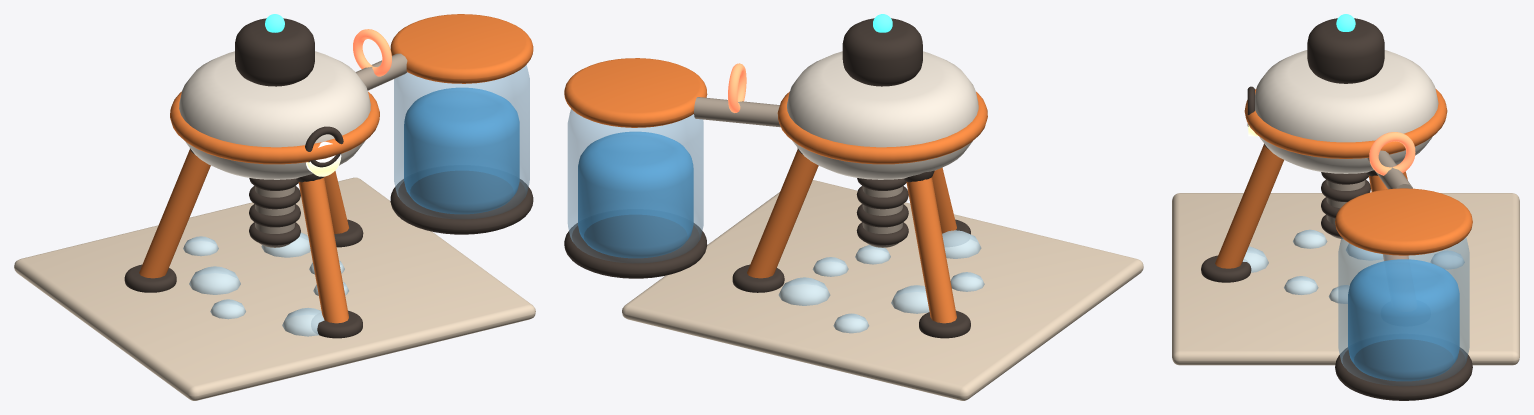
The model's file is pump.glb.
3 renders of one model, left to right at view 1: azimuth 30°, elevation 25°; view 2: azimuth 150°, elevation 25°; view 3: azimuth 270°, elevation 25°, orthographic. The views are drawn at different scales.
Visible parts, largest first — view 1: Cube, Cylinder.007, Cylinder.003, Cylinder.008, Cylinder.009, Cylinder.010, Cylinder.005, Torus, pipe.002, pipe.001, Sphere.007, Torus.006 (+15 smaller); view 2: Cube, Cylinder.007, Cylinder.003, Cylinder.008, Cylinder.009, Cylinder.010, Cylinder.005, Torus, pipe.001, pipe, pipe.003, Sphere.005 (+14 smaller); view 3: Cube, Cylinder.007, Cylinder.003, Cylinder.008, Cylinder.009, Cylinder.010, Cylinder.005, Torus, pipe.002, Torus.006, Cylinder.002, pipe.003 (+9 smaller).
Part boxes in pixels (left/top/right/bottom): Cube: left=14, top=177, right=535, bottom=400; Cylinder.007: left=394, top=65, right=529, bottom=218; Cylinder.003: left=179, top=51, right=370, bottom=179; Cylinder.008: left=404, top=87, right=519, bottom=214; Cylinder.009: left=390, top=14, right=533, bottom=83; Cylinder.010: left=390, top=171, right=533, bottom=234; Cylinder.005: left=235, top=18, right=314, bottom=86; Torus: left=170, top=91, right=379, bottom=164; pipe.002: left=298, top=177, right=348, bottom=323; pipe.001: left=139, top=149, right=210, bottom=278; Sphere.007: left=189, top=266, right=240, bottom=294; Torus.006: left=353, top=29, right=391, bottom=76; Cube: left=622, top=180, right=1143, bottom=400; Cylinder.007: left=567, top=109, right=703, bottom=263; Cylinder.003: left=787, top=51, right=978, bottom=179; Cylinder.008: left=578, top=131, right=693, bottom=258; Cylinder.009: left=564, top=58, right=707, bottom=127; Cylinder.010: left=564, top=215, right=707, bottom=278; Cylinder.005: left=842, top=18, right=922, bottom=86; Torus: left=777, top=91, right=987, bottom=164; pipe.001: left=906, top=177, right=956, bottom=323; pipe: left=747, top=149, right=818, bottom=278; pipe.003: left=694, top=97, right=780, bottom=127; Sphere.005: left=778, top=277, right=830, bottom=305; Cube: left=1172, top=193, right=1519, bottom=365; Cylinder.007: left=1338, top=237, right=1469, bottom=385; Cylinder.003: left=1255, top=50, right=1438, bottom=173; Cylinder.008: left=1348, top=259, right=1459, bottom=381; Cylinder.009: left=1335, top=188, right=1472, bottom=255; Cylinder.010: left=1335, top=340, right=1472, bottom=400; Cylinder.005: left=1307, top=18, right=1384, bottom=83; Torus: left=1244, top=88, right=1447, bottom=158; pipe.002: left=1215, top=144, right=1283, bottom=268; Torus.006: left=1369, top=132, right=1415, bottom=175; Cylinder.002: left=1201, top=255, right=1251, bottom=282; pipe.003: left=1367, top=150, right=1412, bottom=189.
Size of the model in its own units: 2.61 by 1.55 by 1.8.
